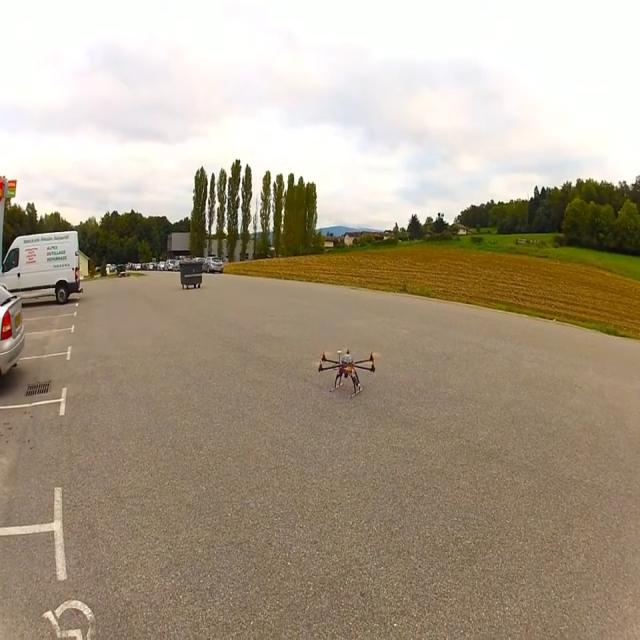drone: (318, 347, 376, 397)
